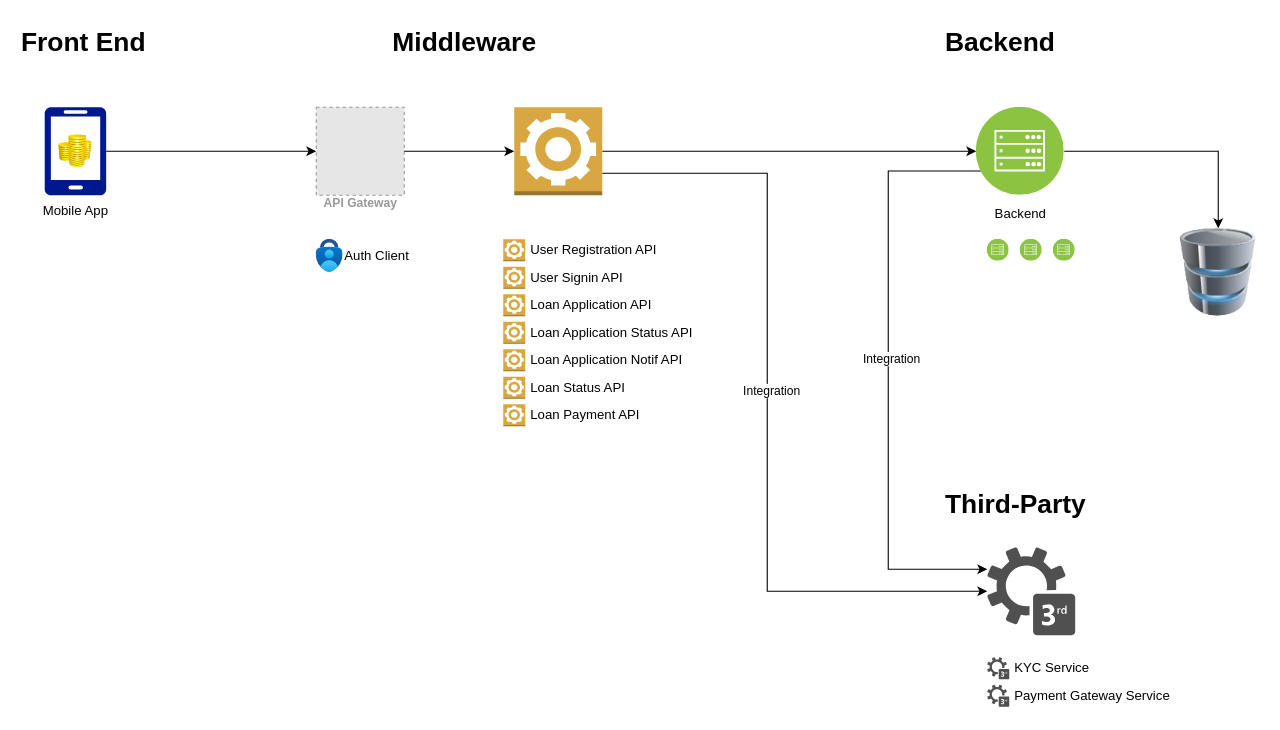
Image size: 1280x730. Some labels were removed from this diagram. Grey dashed boxes stand in for pictures. Here are the shapes that lost their labels. From the top down, the centre of each, then its label:
At [557,150]: "API Service".
At [1218,272]: "Database".
